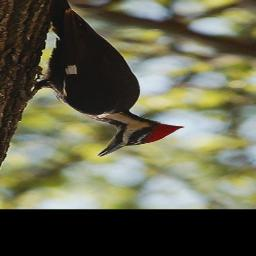Woodpecker: (7, 0, 185, 157)
